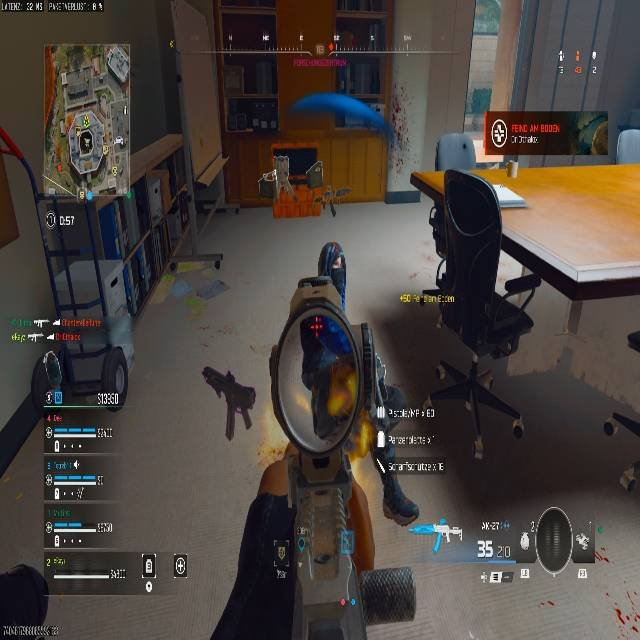player: (196, 238, 422, 640), (423, 166, 534, 452)
